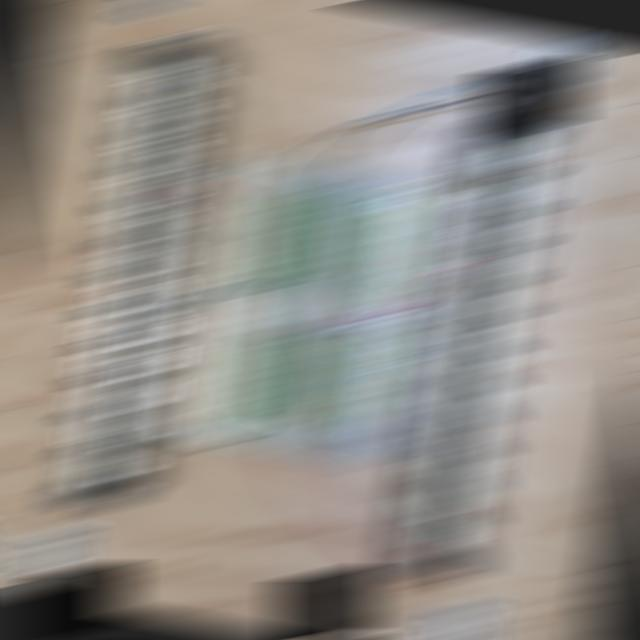Flathead_Block: (397, 110, 562, 584)
Phillips_Block: (51, 38, 213, 513)
Terminal_1: (335, 326, 396, 428), (358, 202, 415, 304)
Terminal_2: (242, 187, 299, 284), (275, 336, 331, 432), (248, 333, 304, 429), (271, 191, 327, 287), (301, 196, 356, 292)
